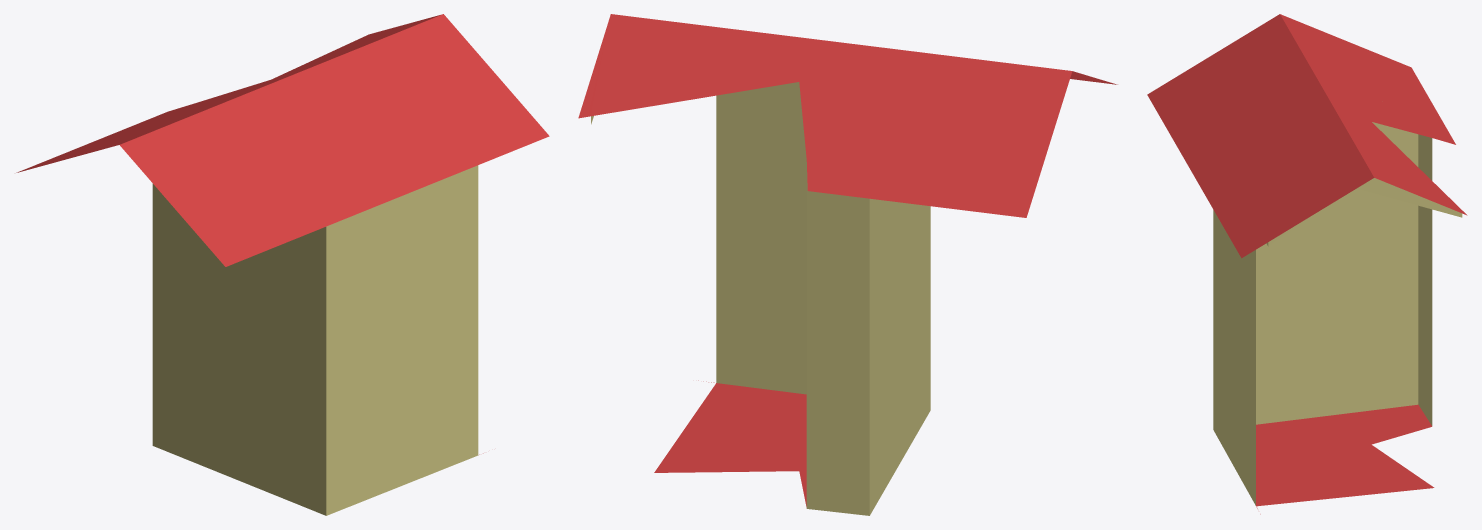
3 views of the same model, side by side, from view 1: azimuth 30°, elevation 25°; view 2: azimuth 150°, elevation 25°; view 3: azimuth 270°, elevation 25° (orthographic). The views are drawn at different scales.
Bounding box in the file's own units: 12.18 × 8.64 × 10.18.
